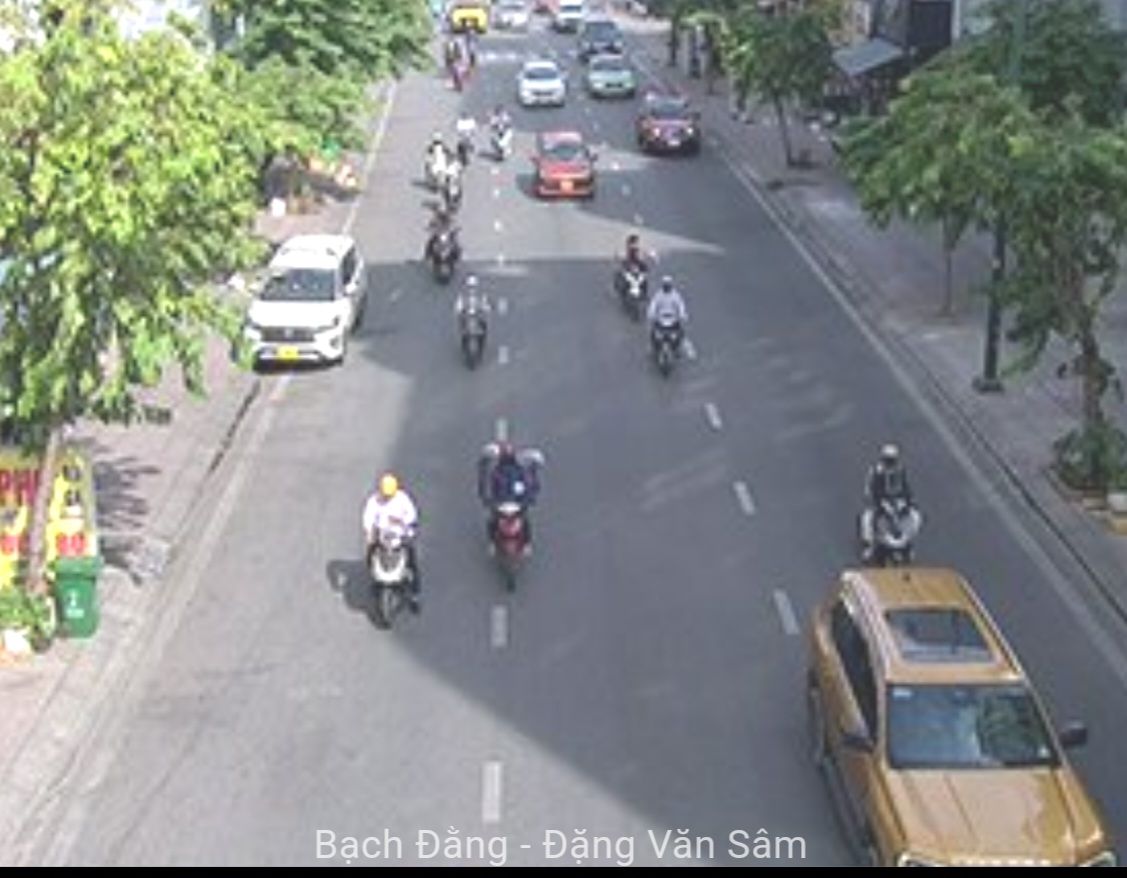car: (799, 573, 1116, 878), (248, 236, 364, 368), (531, 134, 596, 203), (637, 94, 704, 158), (515, 60, 569, 112), (587, 56, 637, 99)
